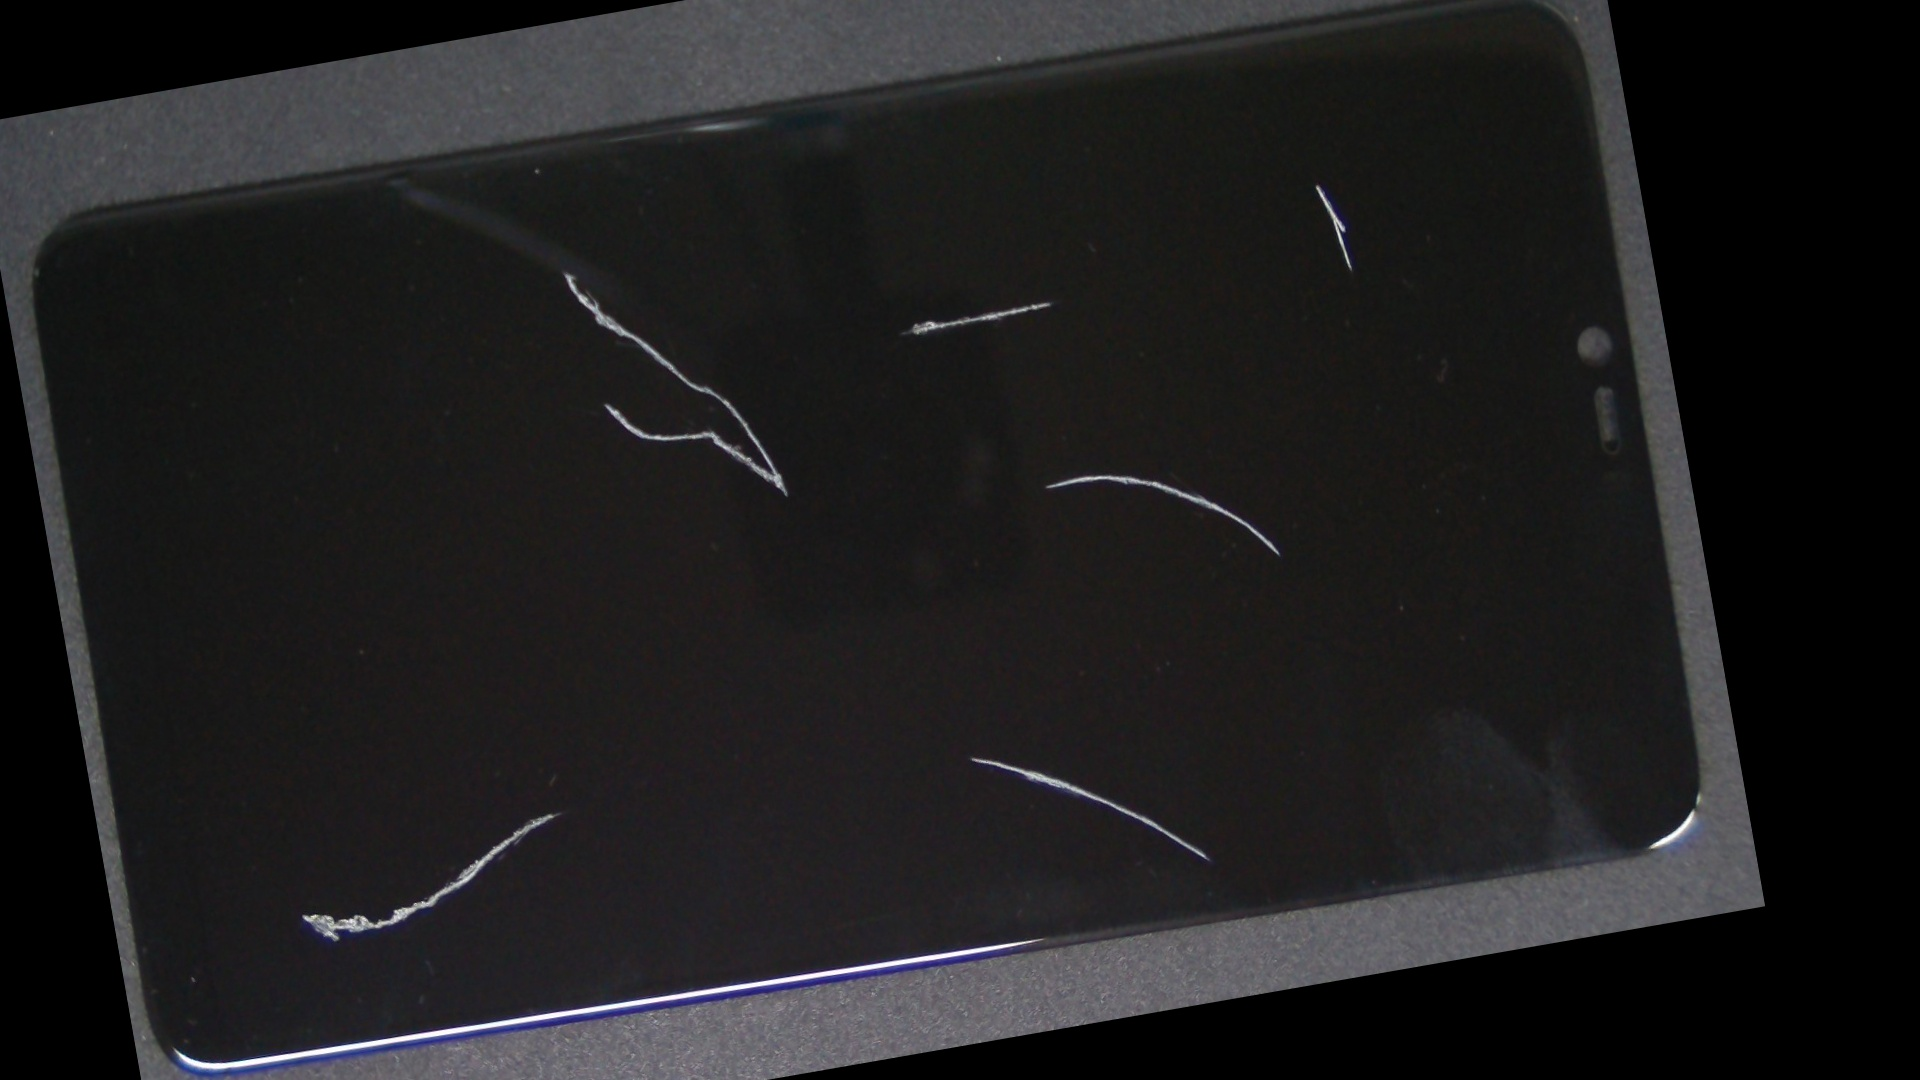oil: (522, 125, 1618, 829), (473, 290, 1449, 1080), (446, 69, 1387, 574), (646, 0, 1655, 438), (261, 392, 819, 1080), (268, 102, 855, 440)
